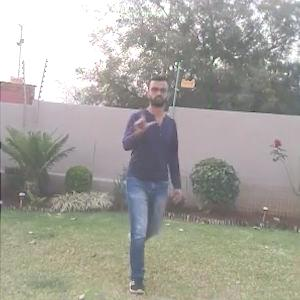land_hand: (128, 104, 159, 133)
